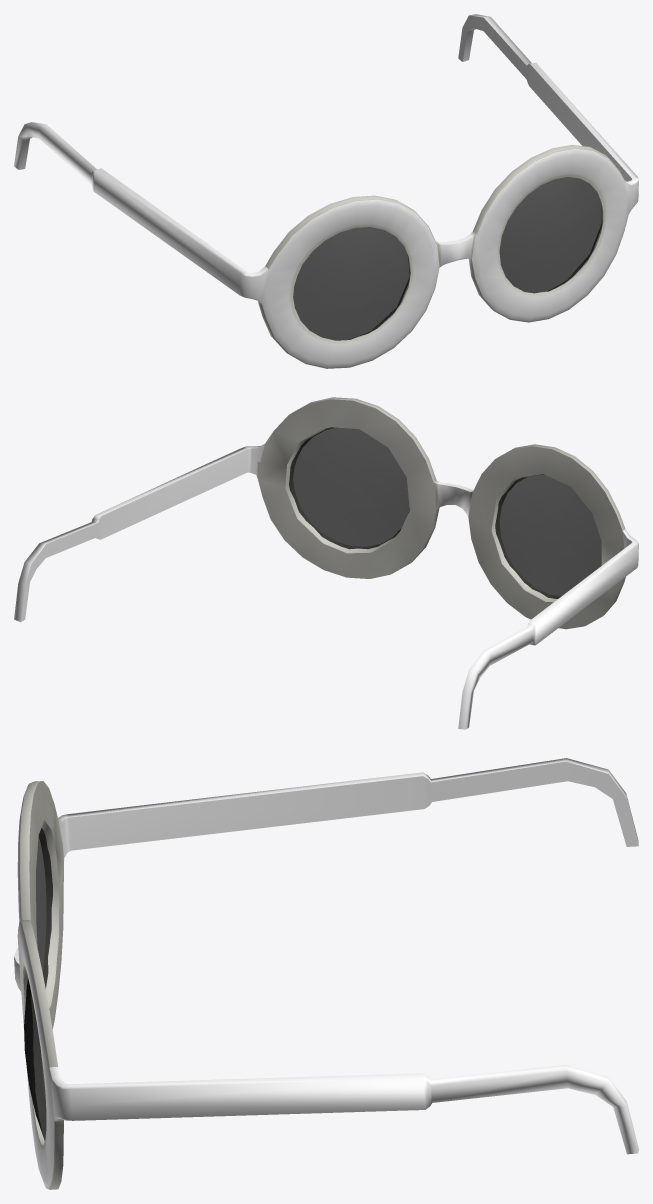
The picture shows the model from 3 angles, top to bottom: view 1: azimuth 30°, elevation 25°; view 2: azimuth 150°, elevation 25°; view 3: azimuth 270°, elevation 25°; orthographic projection. The views are drawn at different scales.
Parts seen in each view (by area): view 1: Wolf3D_Glasses; view 2: Wolf3D_Glasses; view 3: Wolf3D_Glasses.
Boxes of the visible parts, x1,y1,x2,y2 form: Wolf3D_Glasses: (14,14,638,368); Wolf3D_Glasses: (14,397,638,729); Wolf3D_Glasses: (14,758,638,1189).
Bounding box in the file's own units: 0.163 × 0.0597 × 0.1374.
Materials: 1 (1 with a texture image).
